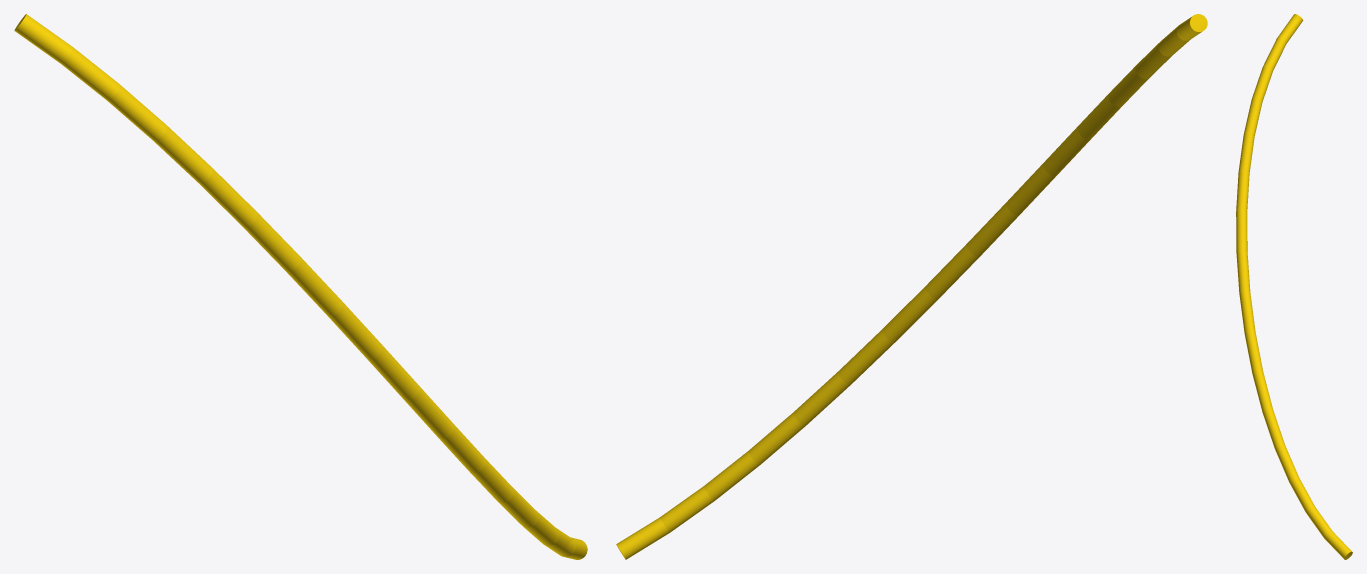
Rendered from Event_421364160_track_69.fbx.
The picture shows the model from 3 angles, left to right: view 1: azimuth 30°, elevation 25°; view 2: azimuth 150°, elevation 25°; view 3: azimuth 270°, elevation 25°; orthographic projection. The views are drawn at different scales.
Visible parts, largest first — view 1: Model; view 2: Model; view 3: Model.
Boxes of the visible parts, box(x1,y1,x2,y2) form: Model: box(14, 14, 587, 559); Model: box(616, 14, 1207, 559); Model: box(1236, 14, 1352, 559).
Size of the model in its own units: 1.37 by 1.54 by 0.4178.
